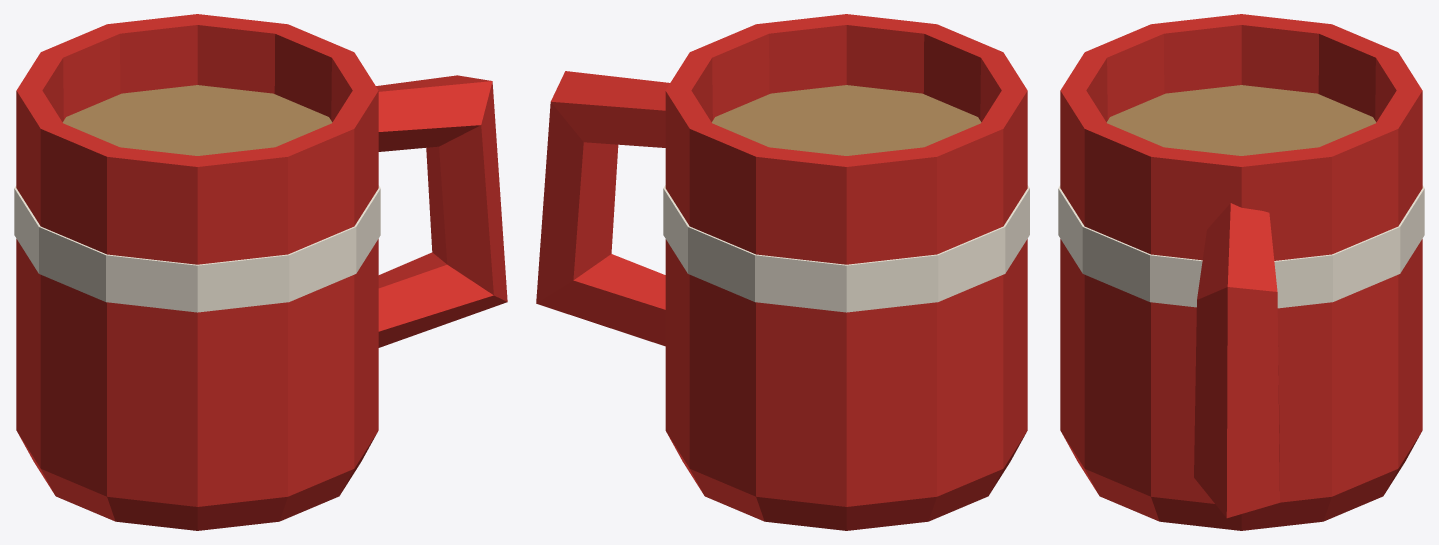
The model's file is sm_env_depot_mug.glb.
3 renders of one model, left to right at view 1: azimuth 30°, elevation 25°; view 2: azimuth 150°, elevation 25°; view 3: azimuth 270°, elevation 25°, orthographic.
Parts seen in each view (by area): view 1: Mug, Handle, Stripe, Coffee; view 2: Mug, Handle, Stripe, Coffee; view 3: Mug, Handle, Stripe, Coffee.
Boxes of the visible parts, left/top/right/bottom form: Mug: left=16, top=14, right=378, bottom=530; Handle: left=376, top=75, right=507, bottom=347; Stripe: left=14, top=185, right=380, bottom=312; Coffee: left=62, top=85, right=332, bottom=155; Mug: left=665, top=14, right=1027, bottom=530; Handle: left=536, top=71, right=669, bottom=346; Stripe: left=663, top=185, right=1029, bottom=312; Coffee: left=712, top=85, right=981, bottom=155; Mug: left=1060, top=14, right=1422, bottom=530; Handle: left=1194, top=203, right=1279, bottom=518; Stripe: left=1058, top=185, right=1424, bottom=308; Coffee: left=1106, top=85, right=1376, bottom=155.
Bounding box in the file's own units: 0.1236 × 0.095 × 0.085.
